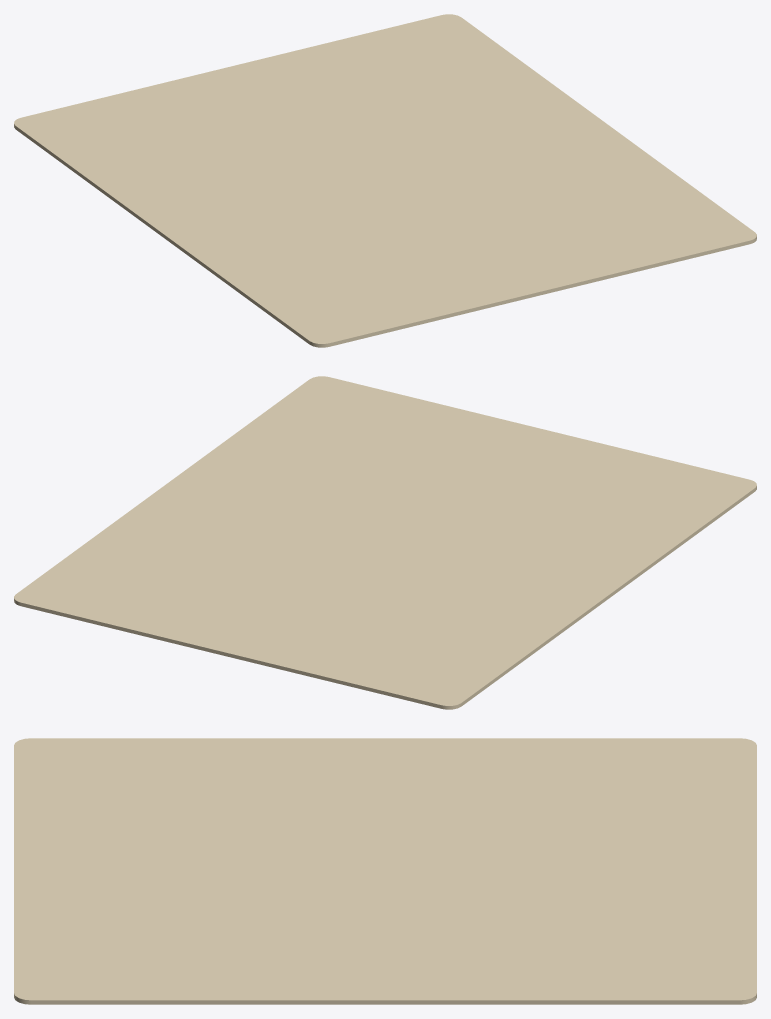
Rendered from bedroom-rug.gltf.
3 views of the same model, one above another, from view 1: azimuth 30°, elevation 25°; view 2: azimuth 150°, elevation 25°; view 3: azimuth 270°, elevation 25° (orthographic). The views are drawn at different scales.
Parts seen in each view (by area): view 1: Bedroom woven wool rug; view 2: Bedroom woven wool rug; view 3: Bedroom woven wool rug.
Part boxes in pixels (<box>): Bedroom woven wool rug: <box>14,14,756,347</box>; Bedroom woven wool rug: <box>14,376,756,709</box>; Bedroom woven wool rug: <box>14,738,756,1004</box>.
Bounding box in the file's own units: 2.17 × 0.017 × 2.6.
